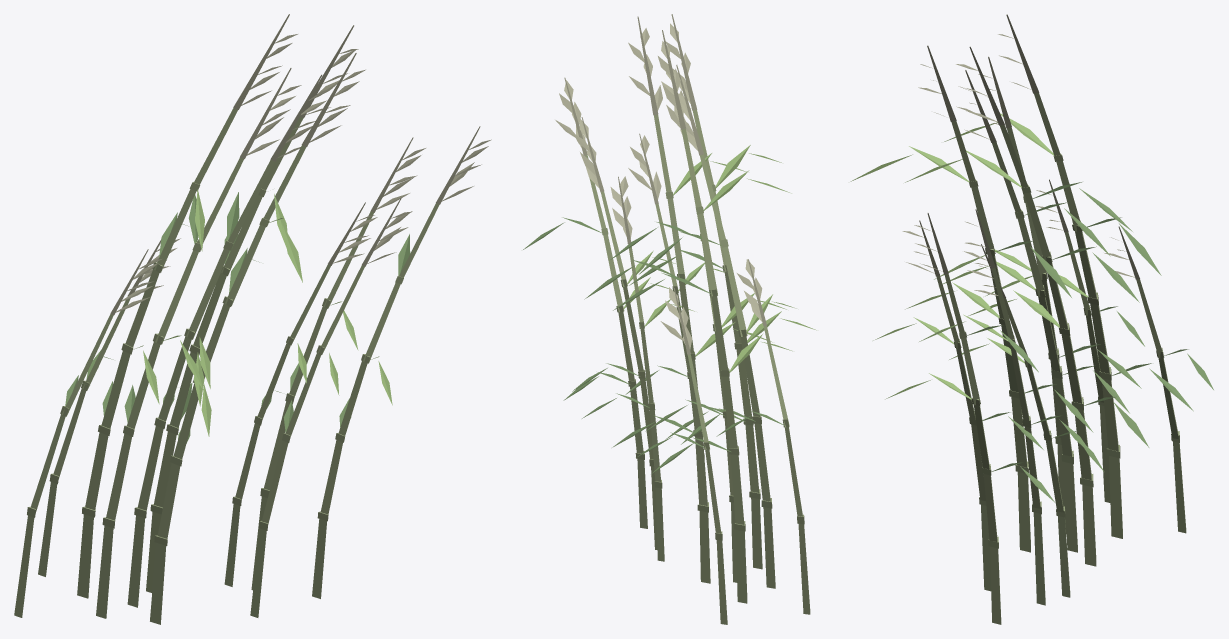
File: shui.luweidang@subadult__spring.glb
The picture shows the model from 3 angles, left to right: view 1: azimuth 30°, elevation 25°; view 2: azimuth 150°, elevation 25°; view 3: azimuth 270°, elevation 25°; orthographic projection. The views are drawn at different scales.
Visible parts, largest first — view 1: shui.luweidang@subadult__spring; view 2: shui.luweidang@subadult__spring; view 3: shui.luweidang@subadult__spring.
Boxes of the visible parts, left/top/right/bottom form: shui.luweidang@subadult__spring: left=14, top=14, right=491, bottom=624; shui.luweidang@subadult__spring: left=523, top=14, right=816, bottom=624; shui.luweidang@subadult__spring: left=850, top=14, right=1213, bottom=624.
Bounding box in the file's own units: 1.65 × 2.41 × 1.34.
